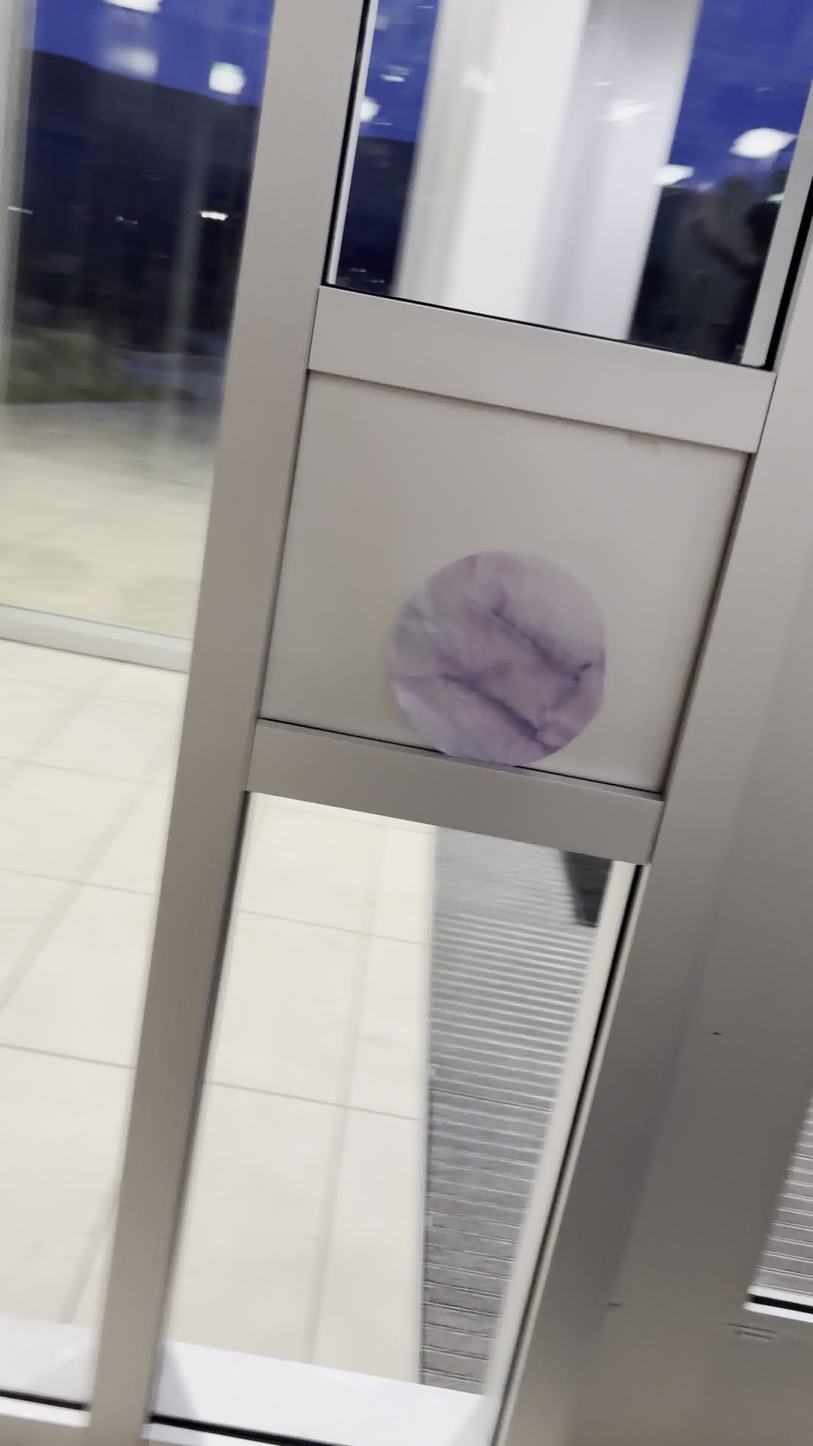Target: (378, 546, 614, 770)
